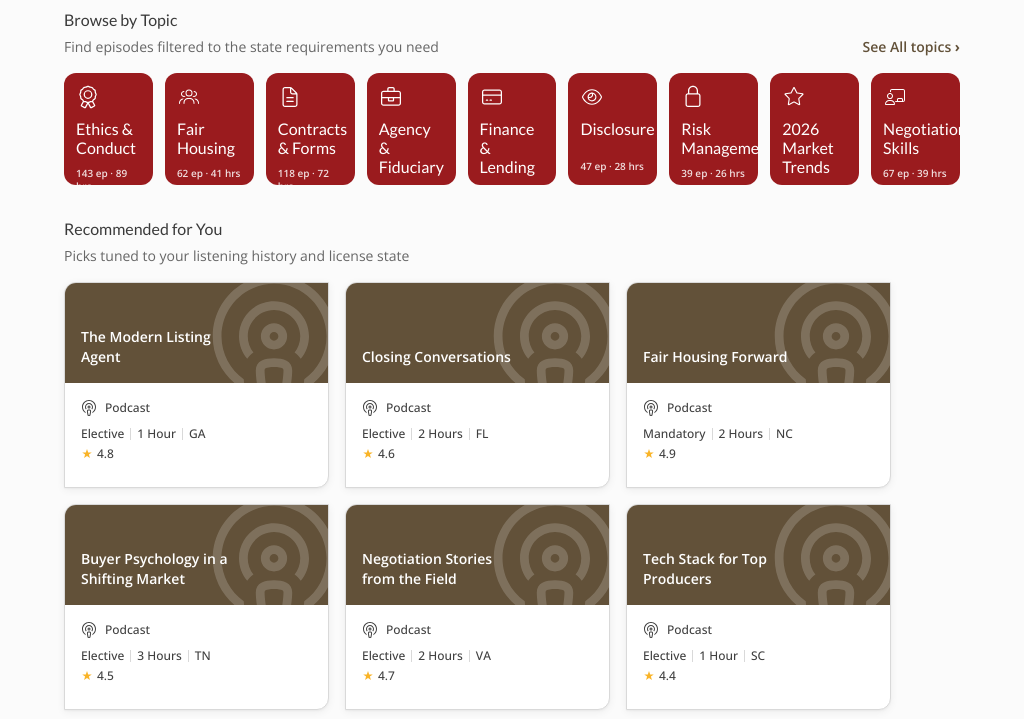
Test: MyPodcastsPage › clicking a recommended card opens the Podcast Summary sheet defaulted to the Description tab
(page scrolled)
What coordinates should you click on to do the following:
click the button "The Modern Listing Agent"
I would click on:
 (196, 385)
Its box is [64,282,329,488].
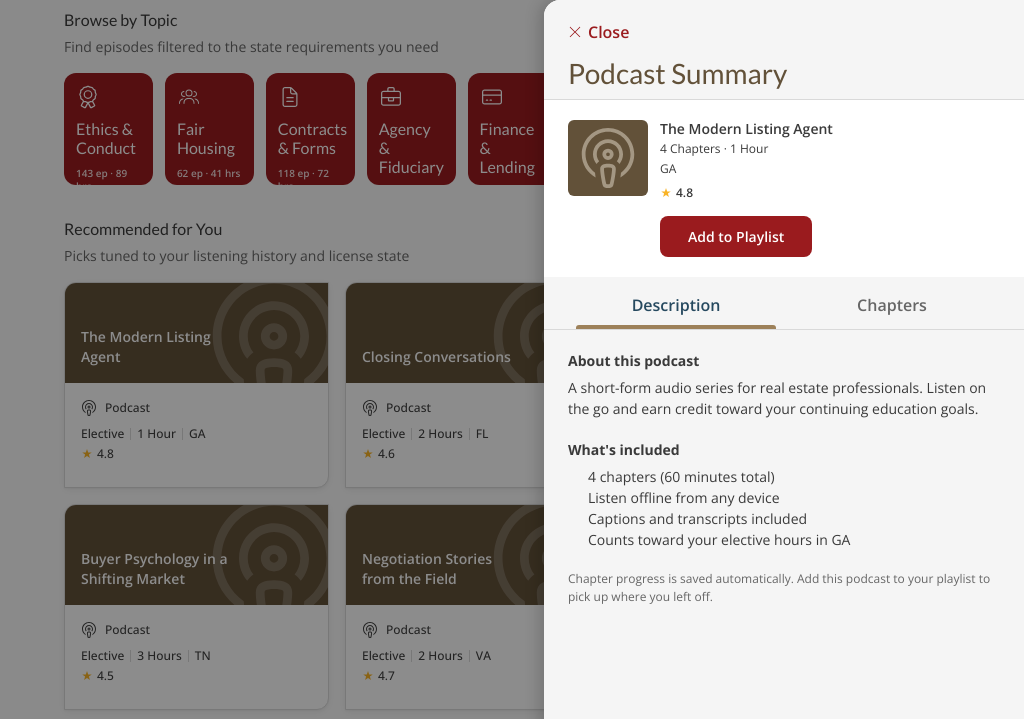
Expected: the heading "Podcast Summary" is shown, [568,56,787,90]
